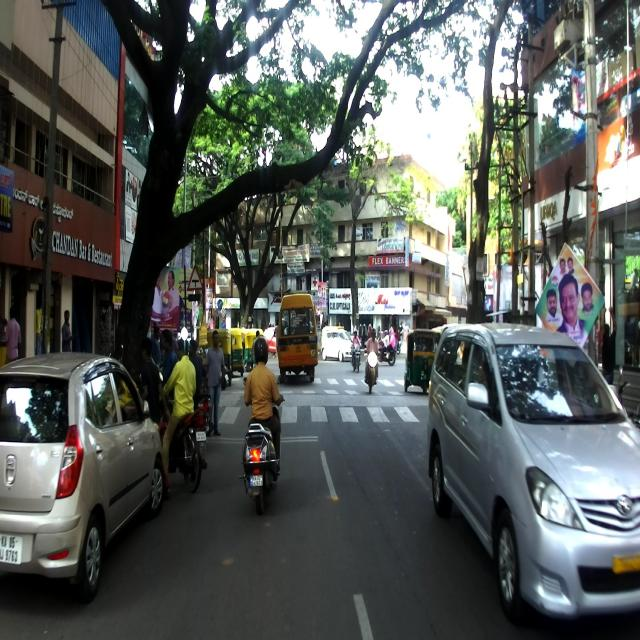Car_Hyundai: (0, 352, 165, 602)
Car_Toyota: (426, 323, 640, 622)
motorcycle_Hero: (156, 371, 208, 494)
scooter: (237, 374, 284, 516)
